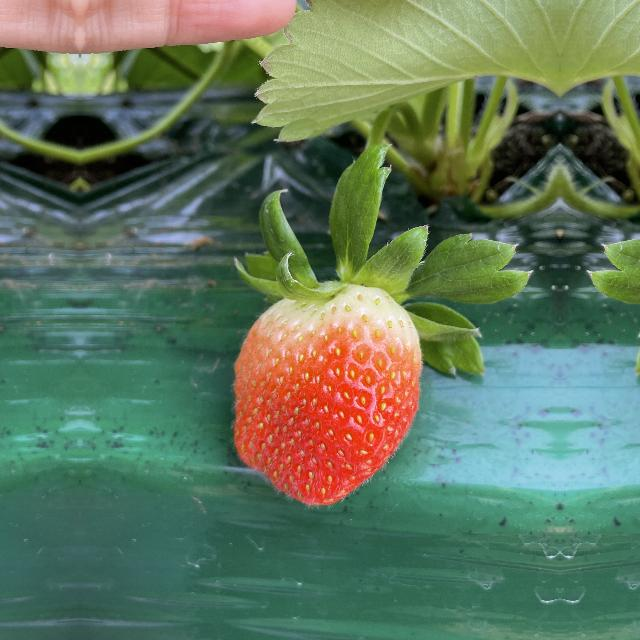Health_100: (223, 270, 427, 514)
